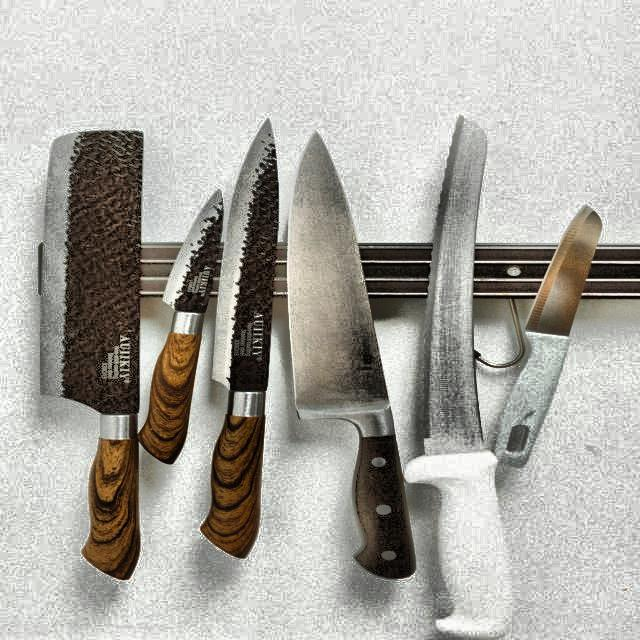knife: (287, 132, 424, 582), (35, 126, 148, 588), (190, 112, 284, 563), (494, 206, 612, 472), (137, 189, 230, 472)
